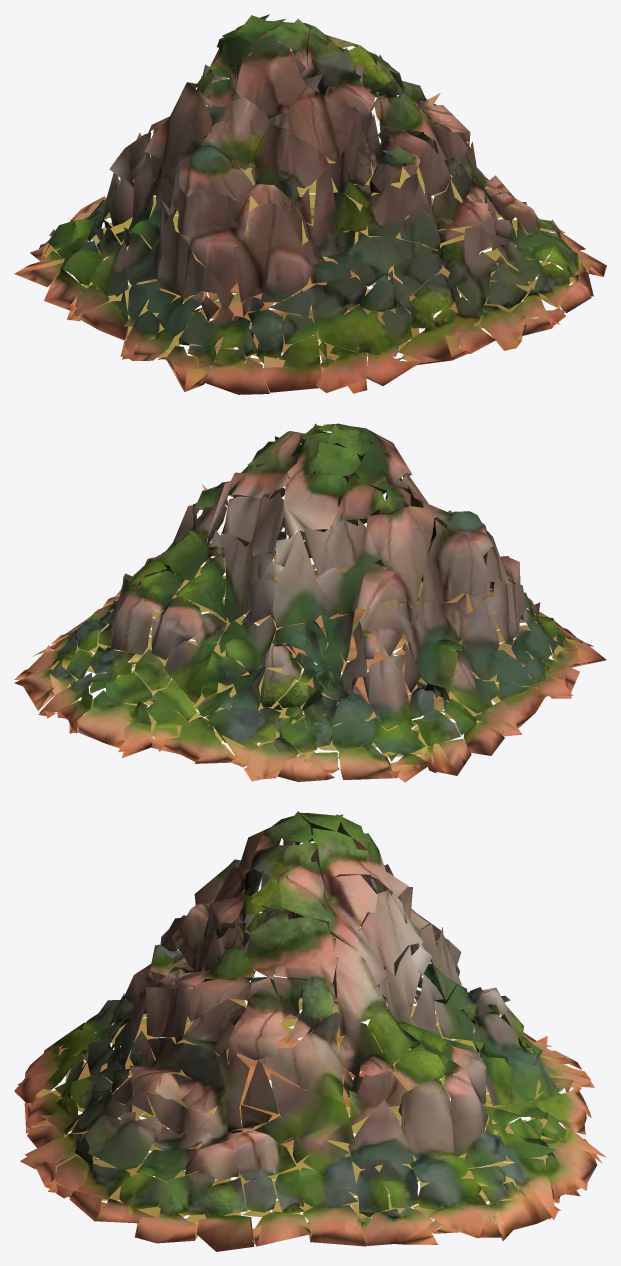
Rendered from hill.glb.
3 renders of one model, top to bottom at view 1: azimuth 30°, elevation 25°; view 2: azimuth 150°, elevation 25°; view 3: azimuth 270°, elevation 25°, orthographic. The views are drawn at different scales.
Visible parts, largest first — view 1: Mesh_0; view 2: Mesh_0; view 3: Mesh_0.
Boxes of the visible parts, <box> form: Mesh_0: <box>14,14,606,394</box>; Mesh_0: <box>14,423,606,782</box>; Mesh_0: <box>14,811,606,1251</box>.
Size of the model in its own units: 29.46 by 16.37 by 29.36.
1 material, 1 textured.
